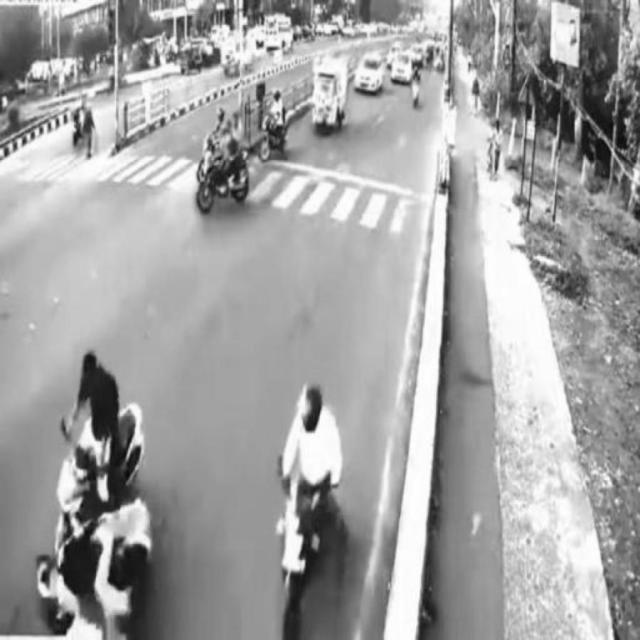accident: (42, 347, 166, 639)
vehicle: (280, 370, 350, 640), (196, 129, 253, 207), (311, 61, 349, 131), (259, 91, 293, 163), (357, 52, 385, 94)
